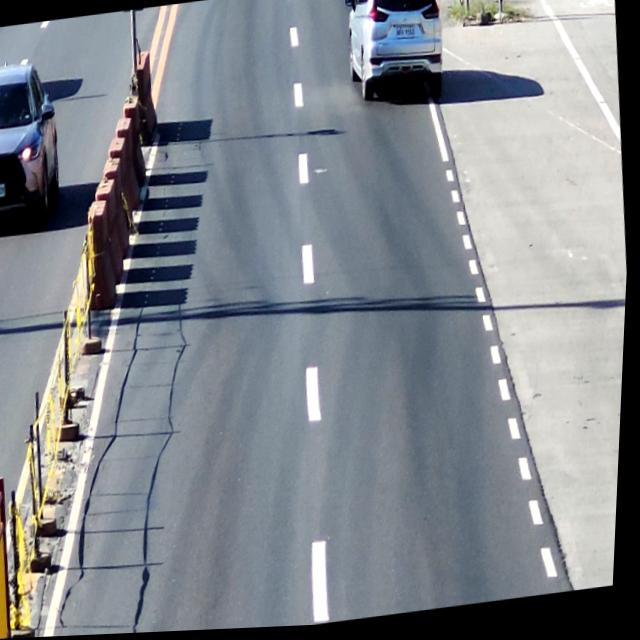Car: (339, 0, 451, 114)
License-Plate: (393, 26, 421, 48), (0, 182, 11, 199)
